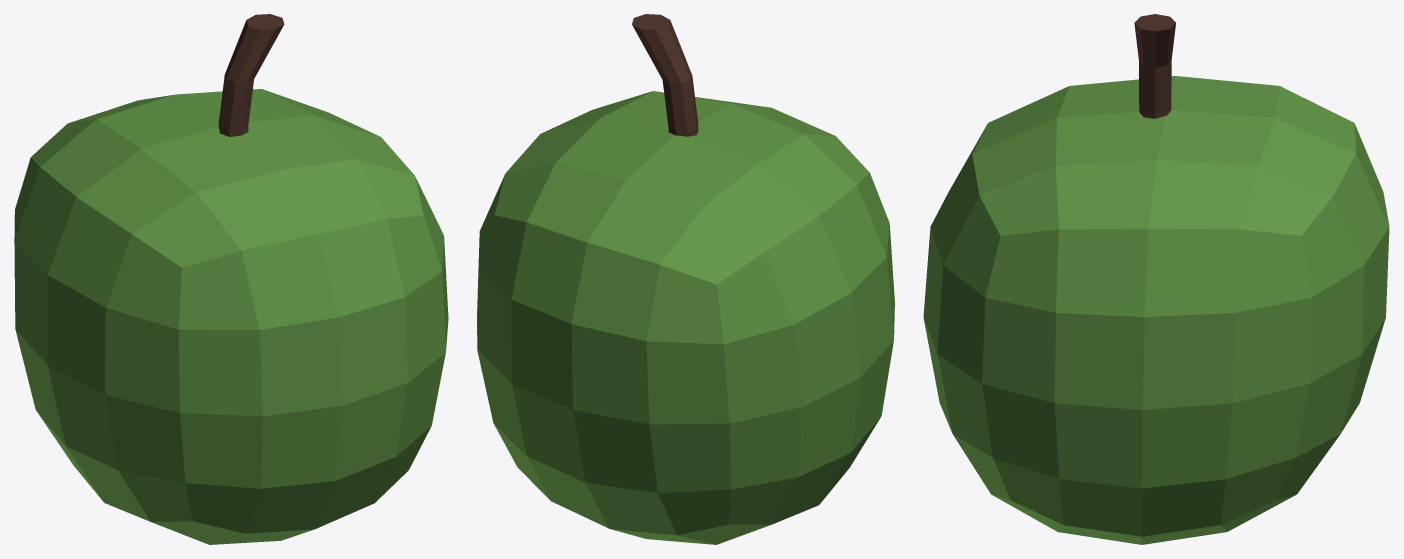
The model's file is Green Apples.fbx.
3 renders of one model, left to right at view 1: azimuth 30°, elevation 25°; view 2: azimuth 150°, elevation 25°; view 3: azimuth 270°, elevation 25°, orthographic. The views are drawn at different scales.
Visible parts, largest first — view 1: Cube.002, Cylinder.002; view 2: Cube.002, Cylinder.002; view 3: Cube.002, Cylinder.002.
Boxes of the visible parts, box(x1,y1,x2,y2) form: Cube.002: box(14, 89, 448, 544); Cylinder.002: box(218, 14, 284, 136); Cube.002: box(477, 91, 894, 544); Cylinder.002: box(632, 14, 698, 136); Cube.002: box(923, 76, 1389, 544); Cylinder.002: box(1134, 14, 1175, 118).
Size of the model in its own units: 327 by 423 by 348.
